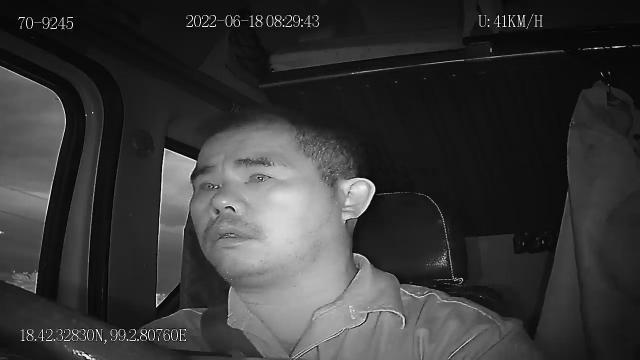SafeDriving: (238, 162, 284, 190), (190, 170, 227, 197)
Seatbelt: (198, 304, 266, 360)
